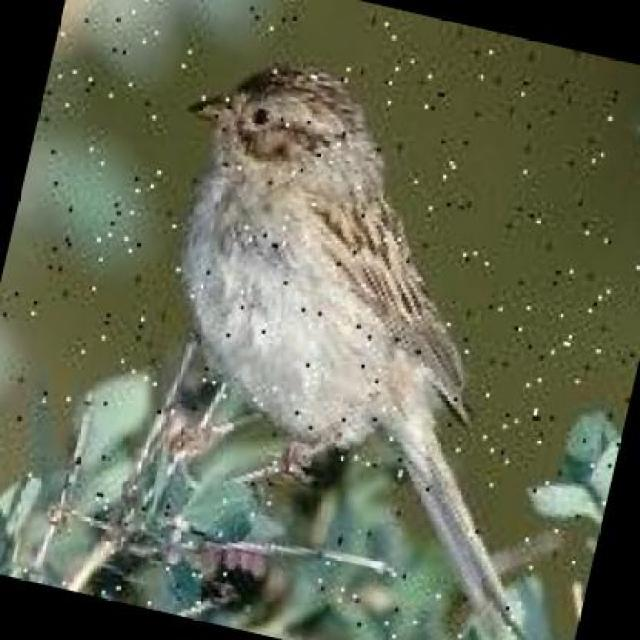Bird: (177, 61, 546, 542)
